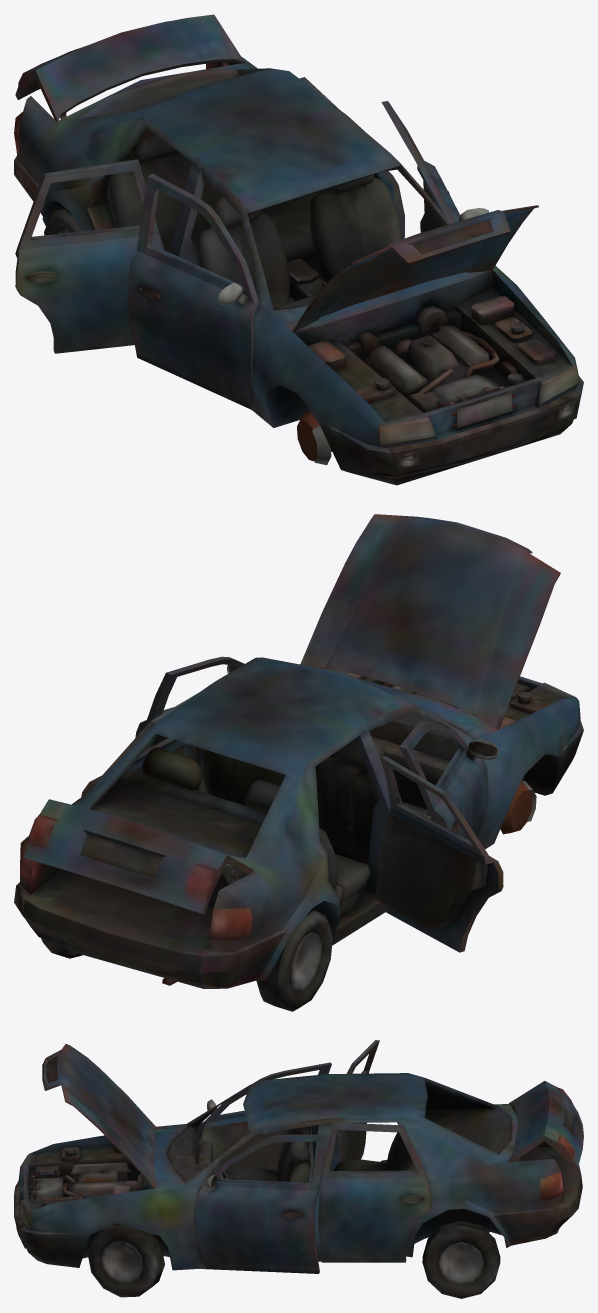
Rendered from car_sedan.glb.
3 views of the same model, one above another, from view 1: azimuth 30°, elevation 25°; view 2: azimuth 150°, elevation 25°; view 3: azimuth 270°, elevation 25° (orthographic). The views are drawn at different scales.
Visible parts, largest first — view 1: KUZA_0, Seats.001_6, ON QAPI_2, ARXA QAPI_3, Engine.001_8, BAQAJ_4, KAPOT_1, ON QAPI.001_12, SALON_5, TEKER.002_15, TEKER.003_11; view 2: KUZA_0, KAPOT_1, Seats.001_6, ARXA QAPI_3, BAQAJ_4, ON QAPI_2, TEKER.003_11, SALON_5, ON QAPI.001_12, TEKER.002_15, Engine.001_8, ARXA QAPI.001_13; view 3: KUZA_0, ON QAPI.001_12, ARXA QAPI.001_13, KAPOT_1, TEKER.001_14, TEKER.004_10, BAQAJ_4, ON QAPI_2, Engine.001_8, Seats.001_6, SALON_5, ARXA QAPI_3.
Part boxes in pixels (x1,y1,x2,y2): KUZA_0: [14, 57, 583, 485]; Seats.001_6: [106, 130, 402, 307]; ON QAPI_2: [128, 173, 258, 409]; ARXA QAPI_3: [15, 159, 163, 353]; Engine.001_8: [308, 296, 555, 412]; BAQAJ_4: [15, 14, 244, 121]; KAPOT_1: [292, 205, 538, 332]; ON QAPI.001_12: [381, 101, 489, 232]; SALON_5: [273, 258, 326, 310]; TEKER.002_15: [297, 411, 331, 465]; TEKER.003_11: [44, 207, 82, 235]; KUZA_0: [14, 657, 583, 988]; KAPOT_1: [300, 514, 560, 729]; Seats.001_6: [120, 738, 430, 916]; ARXA QAPI_3: [375, 756, 503, 952]; BAQAJ_4: [23, 799, 253, 914]; ON QAPI_2: [399, 720, 498, 839]; TEKER.003_11: [256, 909, 332, 1011]; SALON_5: [319, 713, 457, 828]; ON QAPI.001_12: [135, 656, 244, 793]; TEKER.002_15: [500, 780, 536, 834]; Engine.001_8: [322, 668, 550, 728]; ARXA QAPI.001_13: [81, 693, 197, 796]; KUZA_0: [14, 1073, 582, 1270]; ON QAPI.001_12: [193, 1134, 331, 1273]; ARXA QAPI.001_13: [318, 1123, 431, 1262]; KAPOT_1: [42, 1044, 156, 1188]; TEKER.001_14: [422, 1220, 500, 1298]; TEKER.004_10: [87, 1223, 164, 1297]; BAQAJ_4: [508, 1081, 583, 1169]; ON QAPI_2: [197, 1062, 331, 1182]; Engine.001_8: [34, 1146, 148, 1205]; Seats.001_6: [222, 1109, 426, 1182]; SALON_5: [167, 1125, 236, 1193]; ARXA QAPI_3: [329, 1040, 379, 1170].
Size of the model in its own units: 2.81 by 1.71 by 4.7.
Materials: 1 (1 with a texture image).
